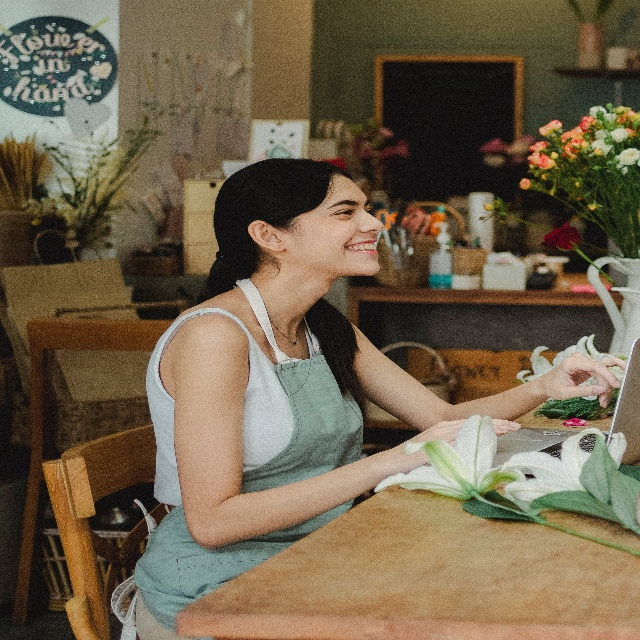Sin_guantes: (421, 417, 521, 461), (548, 354, 626, 409)
